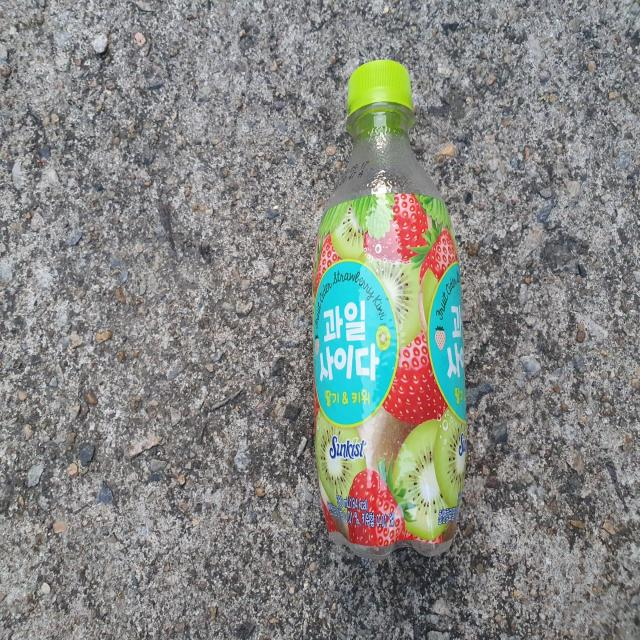plastic: (313, 59, 468, 558)
